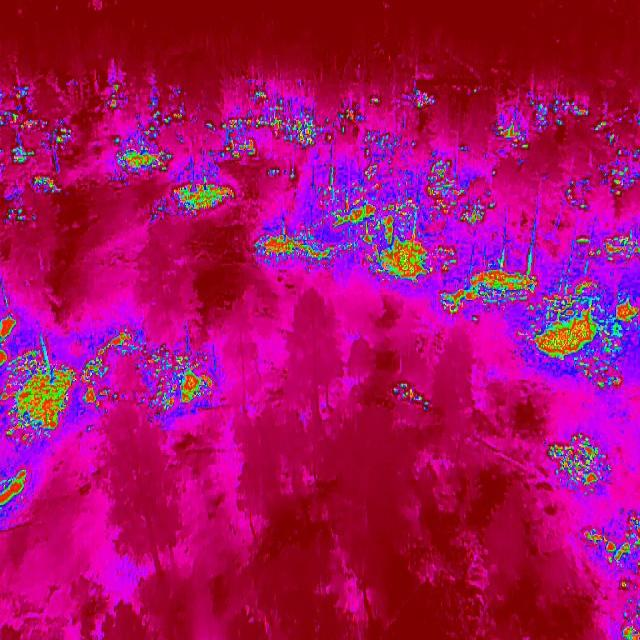fire: (256, 153, 542, 329), (204, 91, 360, 168), (532, 281, 640, 391), (0, 312, 80, 446), (0, 84, 71, 224), (580, 508, 640, 640), (140, 334, 226, 424), (109, 108, 194, 178), (546, 432, 614, 497), (83, 328, 134, 411), (156, 172, 238, 222), (534, 88, 594, 133), (572, 225, 640, 264), (598, 146, 640, 202), (558, 171, 600, 214), (390, 375, 436, 414), (0, 462, 32, 518), (485, 104, 528, 145), (591, 104, 626, 145), (98, 77, 133, 117), (399, 81, 441, 113)
